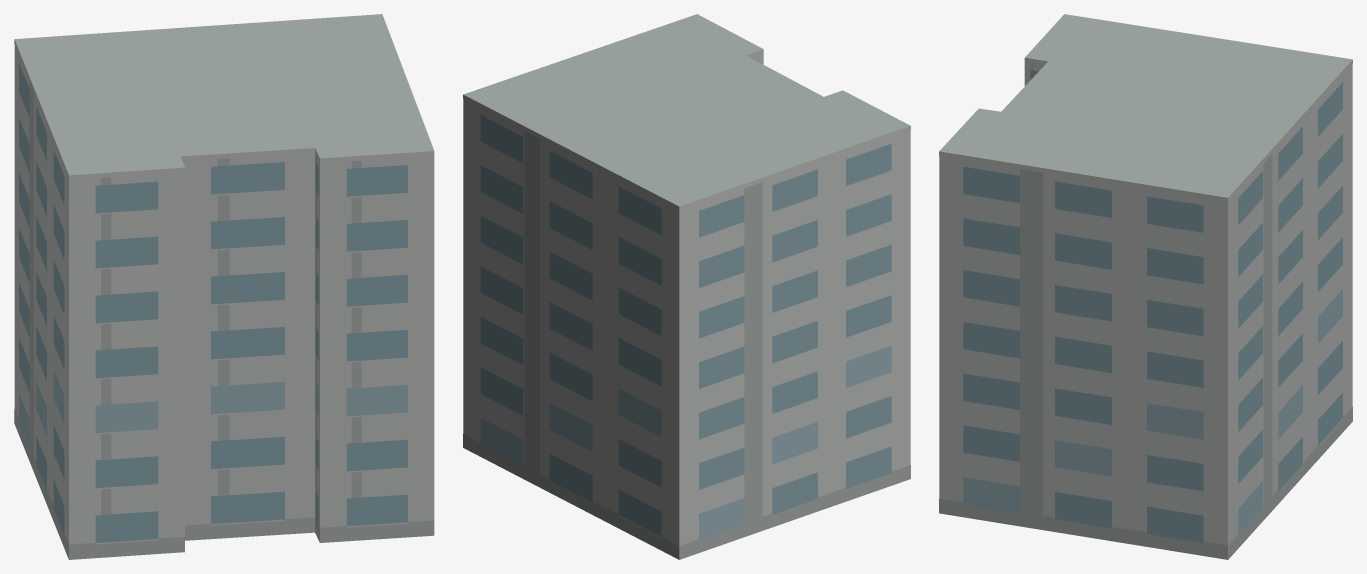
The model's file is survey-upis-32820569.glb.
The picture shows the model from 3 angles, left to right: view 1: azimuth 30°, elevation 25°; view 2: azimuth 150°, elevation 25°; view 3: azimuth 270°, elevation 25°; orthographic projection. The views are drawn at different scales.
Visible parts, largest first — view 1: survey-upis-32820569.tmp; view 2: survey-upis-32820569.tmp; view 3: survey-upis-32820569.tmp.
Boxes of the visible parts, x1,y1,x2,y2 form: survey-upis-32820569.tmp: (14, 14, 434, 559); survey-upis-32820569.tmp: (463, 14, 910, 559); survey-upis-32820569.tmp: (939, 14, 1352, 559).
Bounding box in the file's own units: 21.14 × 19.4 × 20.1.
